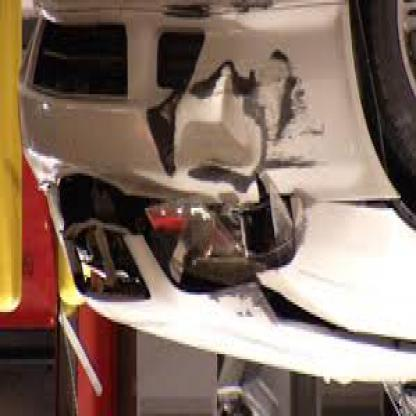dent: (176, 89, 257, 178)
